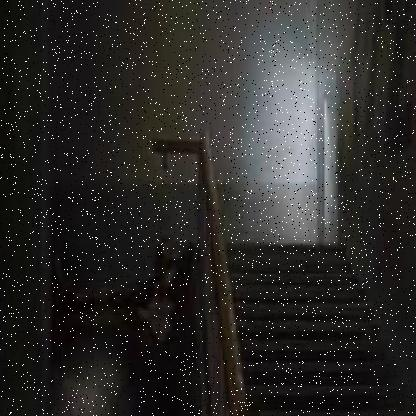stair_up: (220, 234, 408, 398)
